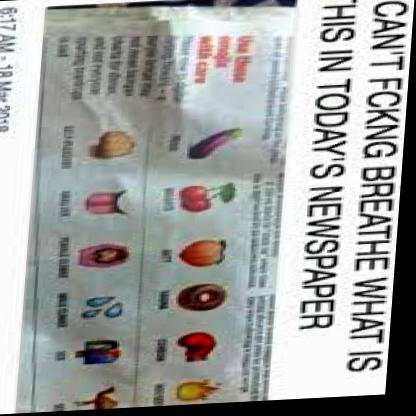Paper: (30, 0, 296, 414)
